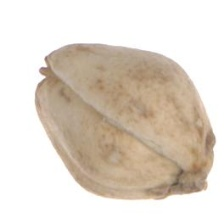L1: (168, 160, 208, 195), (34, 50, 57, 98)
L2: (33, 43, 216, 200)
